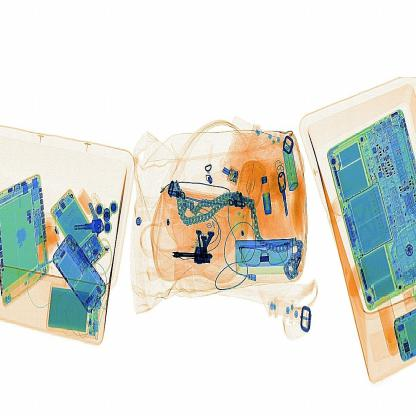knife: (168, 247, 216, 266)
